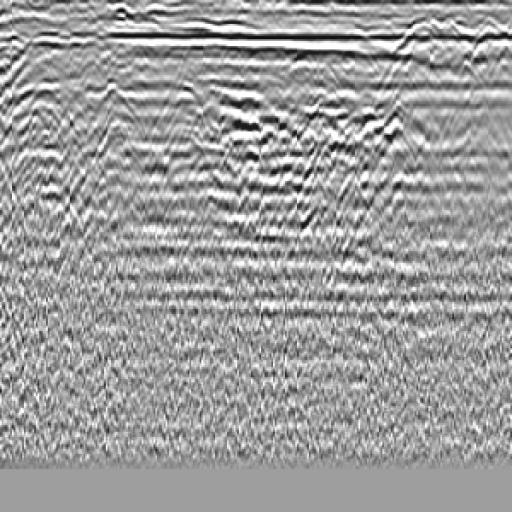metalic: (35, 51, 200, 295), (167, 69, 319, 272)
